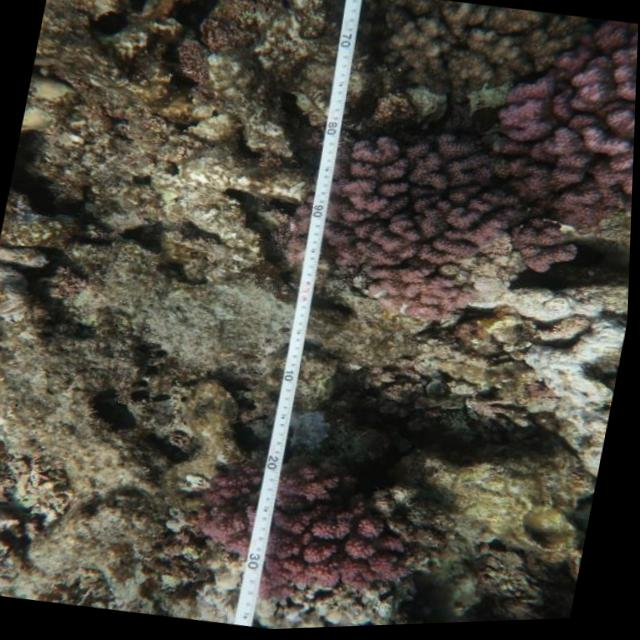Healthy Coral: (274, 109, 611, 352), (178, 434, 448, 624), (477, 8, 639, 247)
